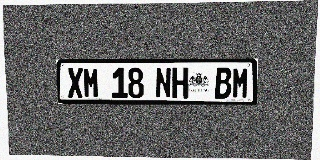1: (111, 68, 127, 98)
8: (128, 68, 144, 98)
B: (215, 67, 232, 98)
H: (172, 68, 188, 98)
M: (232, 67, 249, 98), (83, 68, 99, 98)
N: (155, 68, 171, 98)
X: (67, 68, 83, 98)
